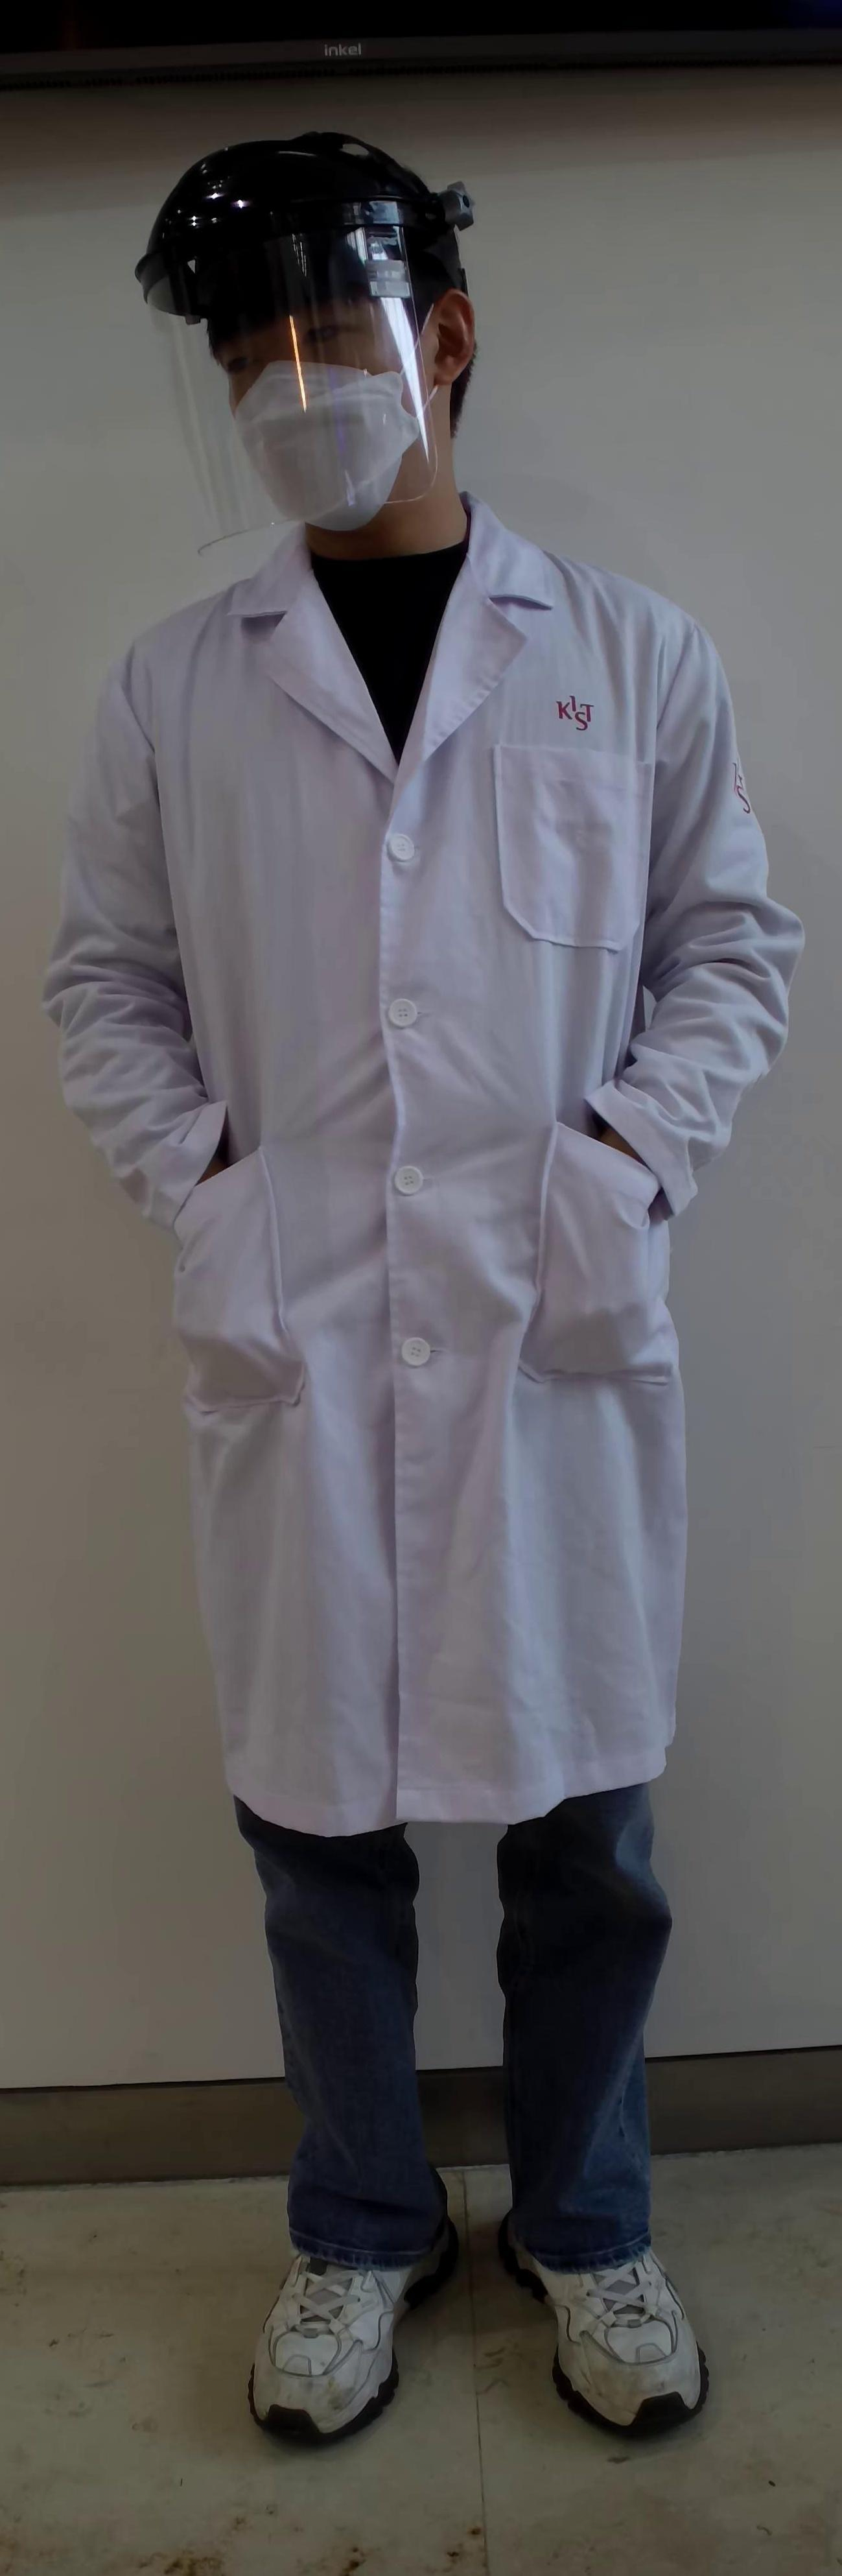lab_coat: (34, 611, 799, 1797)
